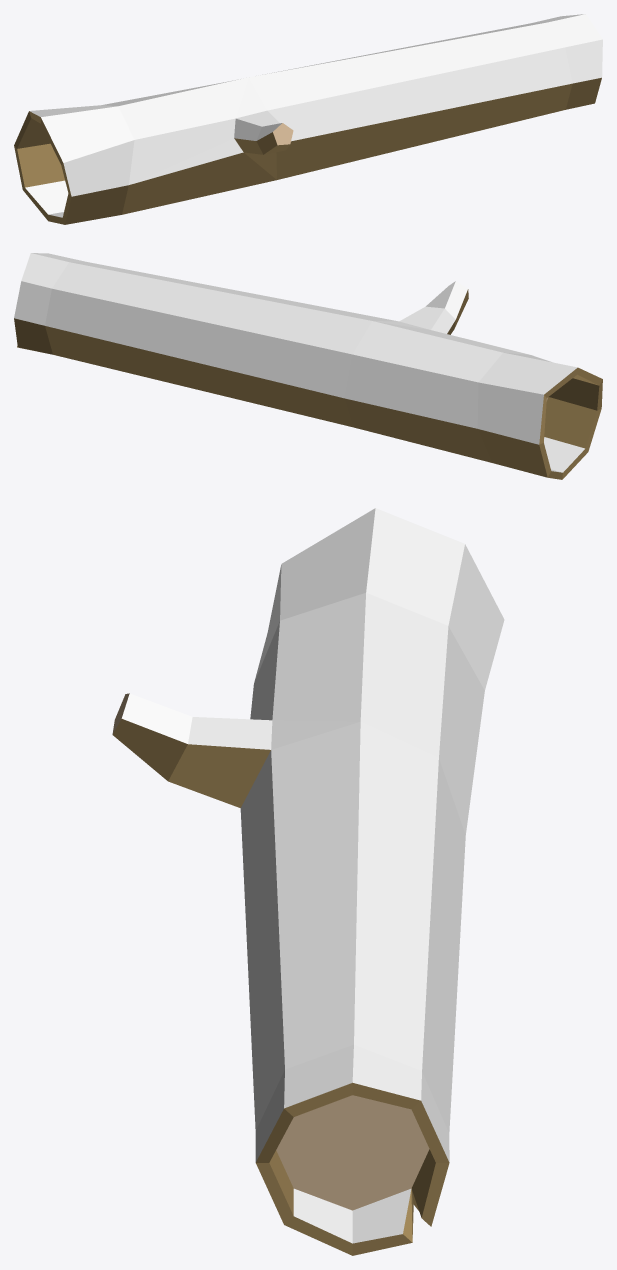
File: Oak_Log_Snow_08.fbx
The picture shows the model from 3 angles, top to bottom: view 1: azimuth 30°, elevation 25°; view 2: azimuth 150°, elevation 25°; view 3: azimuth 270°, elevation 25°; orthographic projection. The views are drawn at different scales.
Visible parts, largest first — view 1: Oak_Log_Snow_08; view 2: Oak_Log_Snow_08; view 3: Oak_Log_Snow_08.
Part boxes in pixels (<box>): Oak_Log_Snow_08: <box>14,14,602,224</box>; Oak_Log_Snow_08: <box>14,253,602,479</box>; Oak_Log_Snow_08: <box>112,508,504,1255</box>.
Bounding box in the file's own units: 294 × 58.18 × 92.24.
